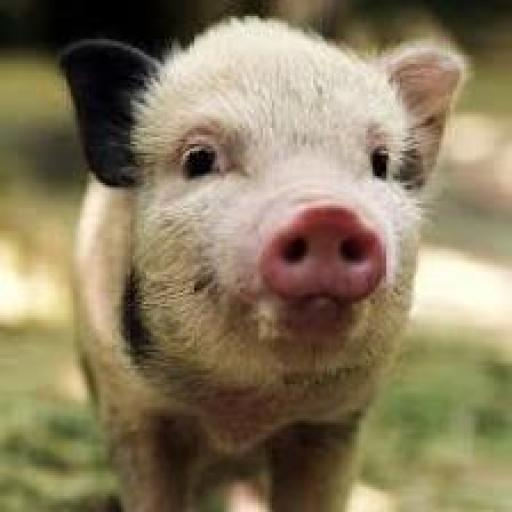Pig: (41, 9, 479, 511)
